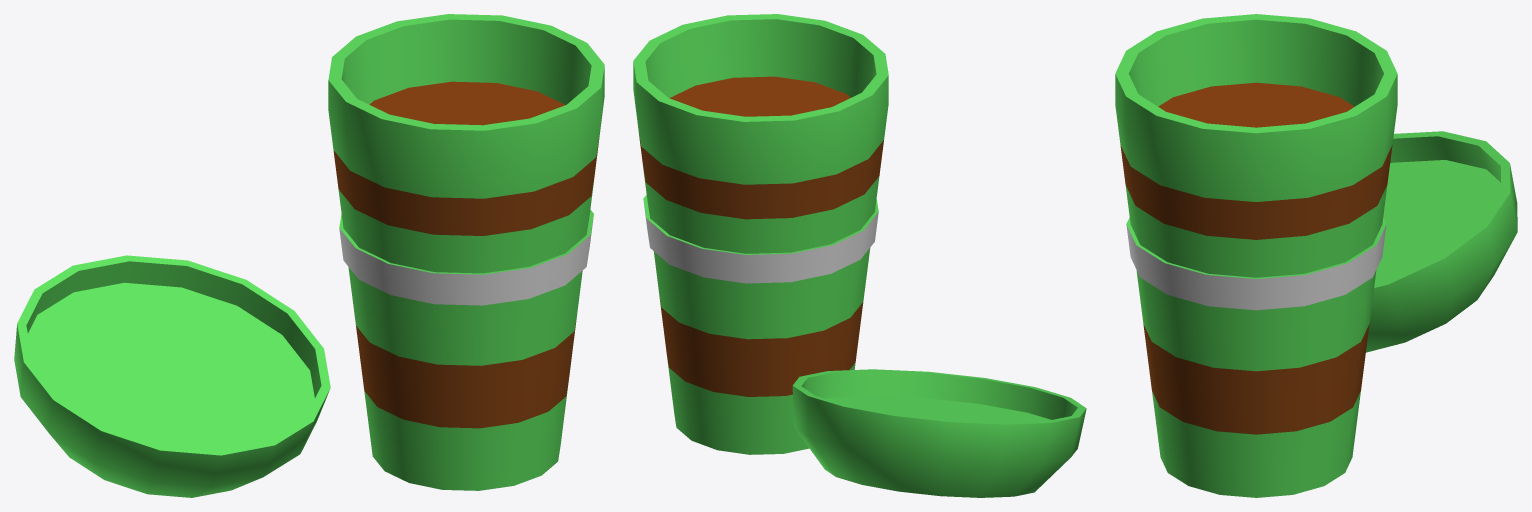
File: Copo de café.fbx
The picture shows the model from 3 angles, left to right: view 1: azimuth 30°, elevation 25°; view 2: azimuth 150°, elevation 25°; view 3: azimuth 270°, elevation 25°; orthographic projection. The views are drawn at different scales.
Parts seen in each view (by area): view 1: Cylinder, Cylinder.001, Cylinder.004, Cylinder.003, Cylinder.002; view 2: Cylinder, Cylinder.001, Cylinder.004, Cylinder.003, Cylinder.002; view 3: Cylinder, Cylinder.001, Cylinder.004, Cylinder.003, Cylinder.002.
Boxes of the visible parts, x1=… form: Cylinder: x1=328, y1=14, x2=604, y2=490; Cylinder.001: x1=14, y1=255, x2=330, y2=497; Cylinder.004: x1=333, y1=139, x2=599, y2=428; Cylinder.003: x1=339, y1=217, x2=593, y2=305; Cylinder.002: x1=369, y1=81, x2=565, y2=125; Cylinder: x1=633, y1=14, x2=888, y2=454; Cylinder.001: x1=792, y1=369, x2=1086, y2=497; Cylinder.004: x1=638, y1=132, x2=883, y2=396; Cylinder.003: x1=643, y1=202, x2=878, y2=283; Cylinder.002: x1=669, y1=76, x2=850, y2=116; Cylinder: x1=1115, y1=14, x2=1397, y2=497; Cylinder.001: x1=1366, y1=131, x2=1517, y2=352; Cylinder.004: x1=1120, y1=145, x2=1392, y2=434; Cylinder.003: x1=1126, y1=224, x2=1386, y2=310; Cylinder.002: x1=1158, y1=82, x2=1354, y2=127.
Size of the model in its own units: 414 by 300 by 285.
